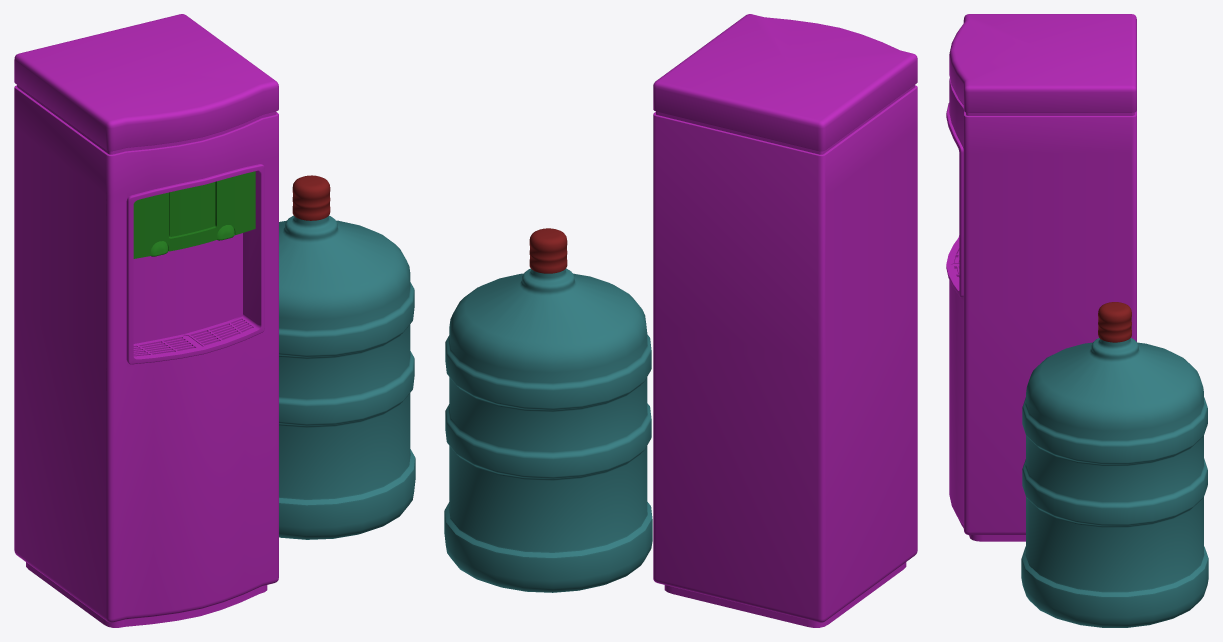
File: Water filter model.fbx
3 renders of one model, left to right at view 1: azimuth 30°, elevation 25°; view 2: azimuth 150°, elevation 25°; view 3: azimuth 270°, elevation 25°, orthographic. The views are drawn at different scales.
Parts seen in each view (by area): view 1: Box001, Cylinder001; view 2: Box001, Cylinder001; view 3: Box001, Cylinder001.
Part boxes in pixels (box(x1,y1,x2,y2)): Box001: box(14, 14, 278, 627); Cylinder001: box(279, 175, 415, 539); Box001: box(653, 14, 917, 627); Cylinder001: box(444, 228, 652, 592); Box001: box(946, 14, 1136, 541); Cylinder001: box(1021, 302, 1208, 627).
Bounding box in the file's own units: 113 × 146 × 76.31.
